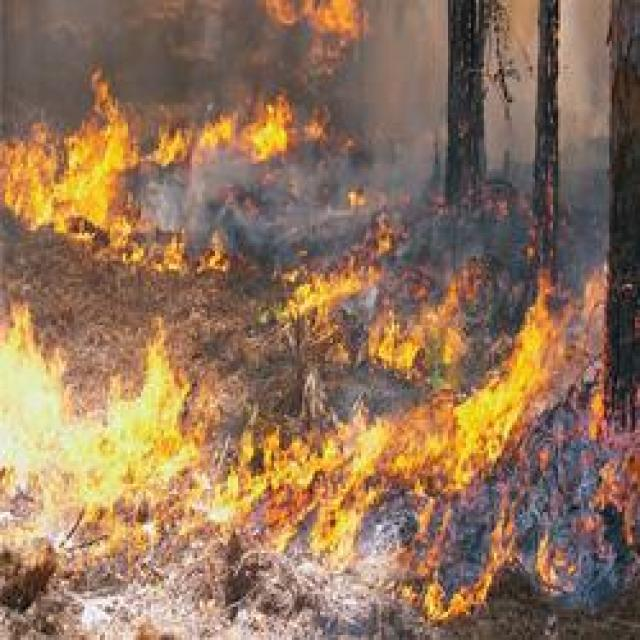fire: (222, 283, 640, 622), (0, 0, 374, 275), (0, 300, 213, 564)
